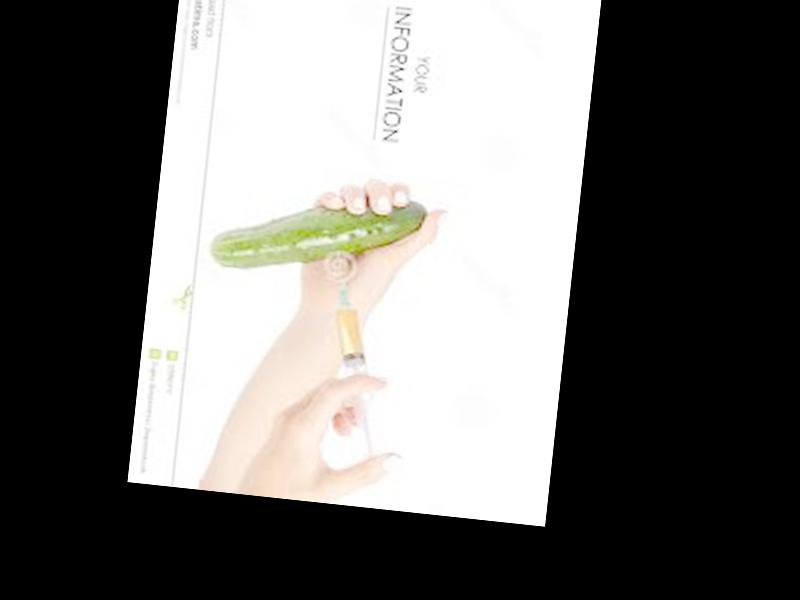Cucumber: (208, 180, 428, 287)
